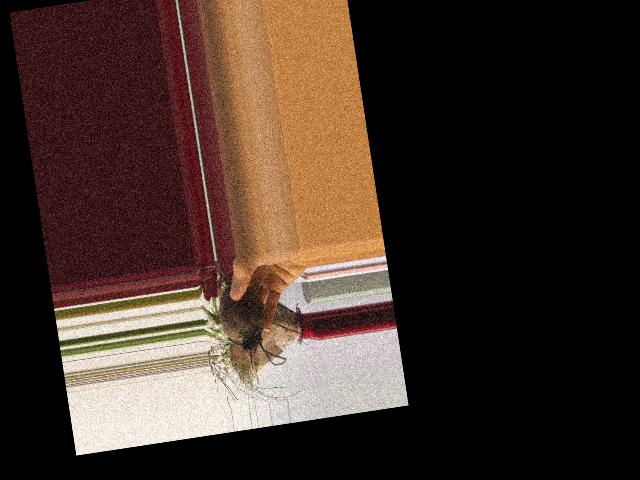beet: (205, 256, 287, 374)
